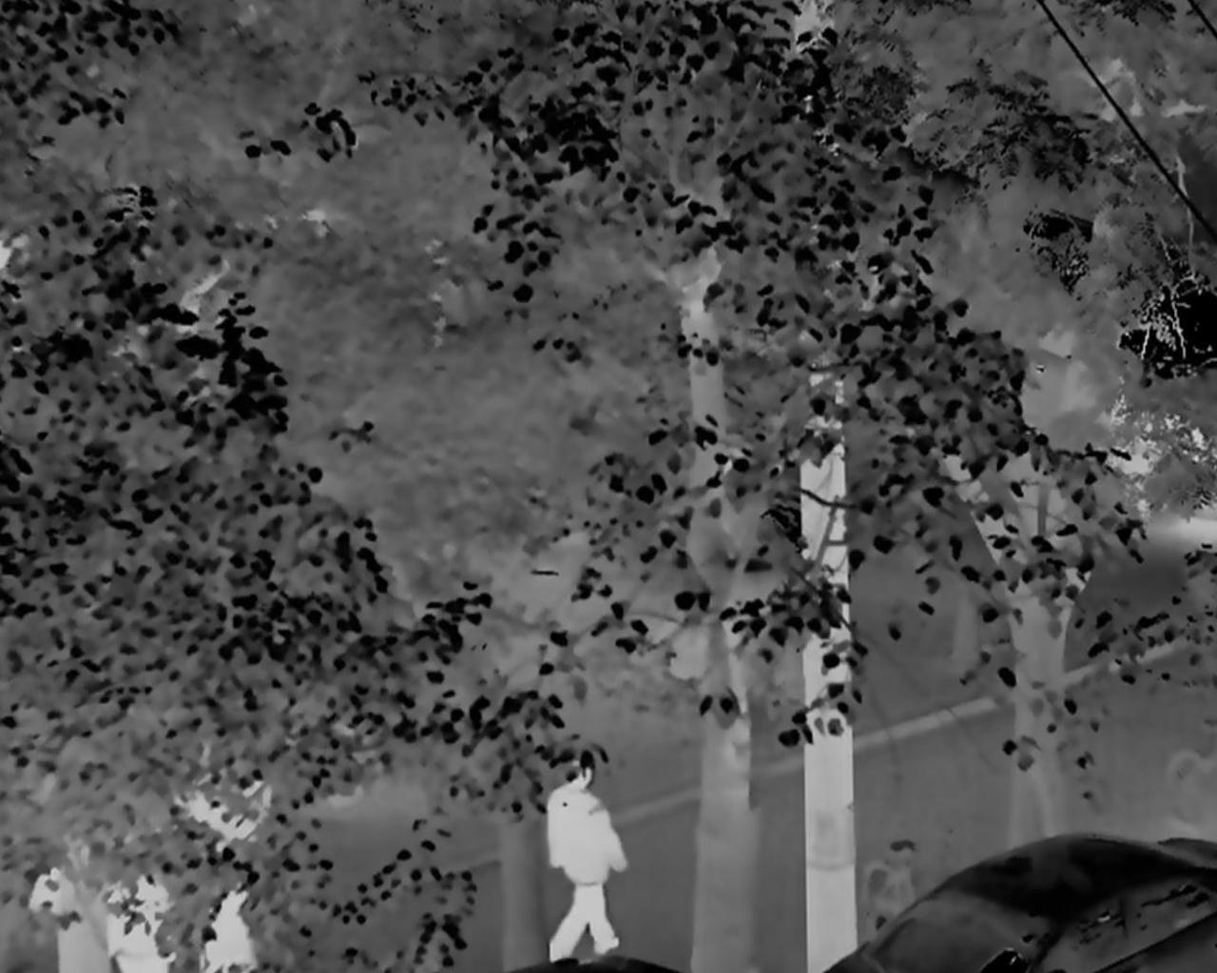person: (541, 754, 627, 973)
